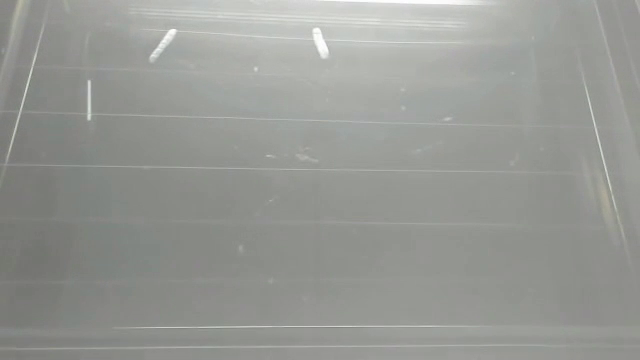alpha: (145, 27, 180, 64), (310, 25, 333, 62), (84, 76, 97, 124)
